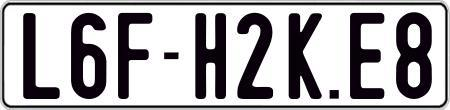2: (237, 12, 278, 103)
6: (71, 12, 111, 98)
8: (394, 9, 436, 97)
E: (350, 13, 390, 99)
F: (117, 11, 156, 103)
H: (192, 10, 228, 101)
K: (286, 12, 323, 99)
L: (22, 12, 60, 104)
